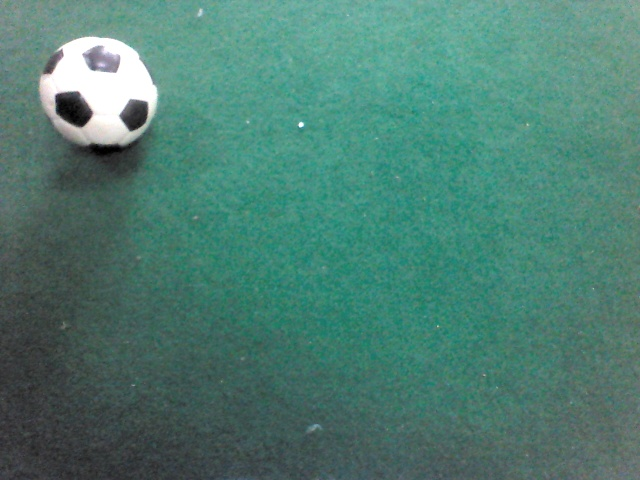ball: (38, 34, 159, 150)
